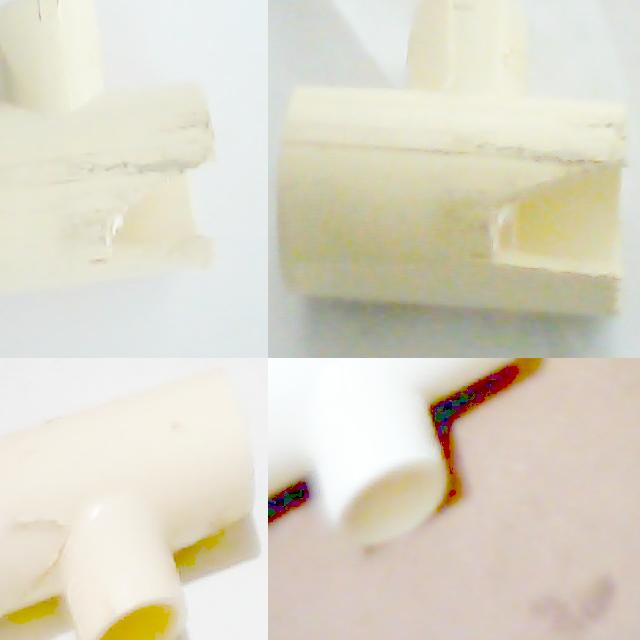Defective: (490, 166, 623, 280), (100, 160, 216, 270), (0, 506, 73, 599)
T Joint: (277, 0, 631, 320), (0, 369, 255, 640), (0, 0, 217, 299), (268, 358, 522, 548)
